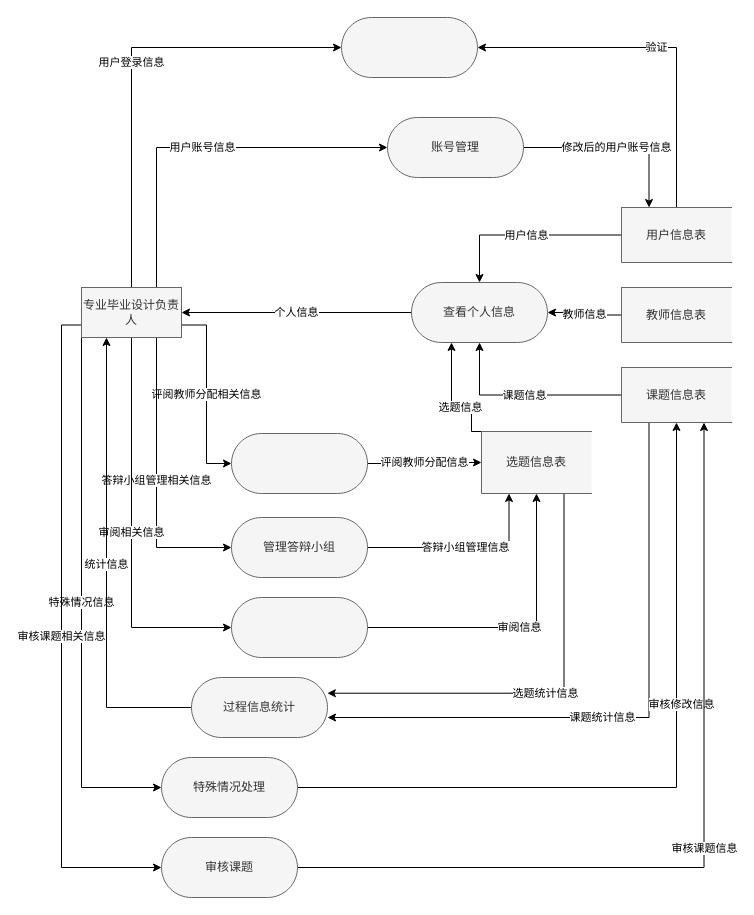
This 754x915 diagram has some shape labels left out. The centre of each missing label's shape, as x and y in pixels:
"分配评阅老师" goes at (299,463).
"审阅外出毕业设计" goes at (299,627).
"用户登录" goes at (409,47).
